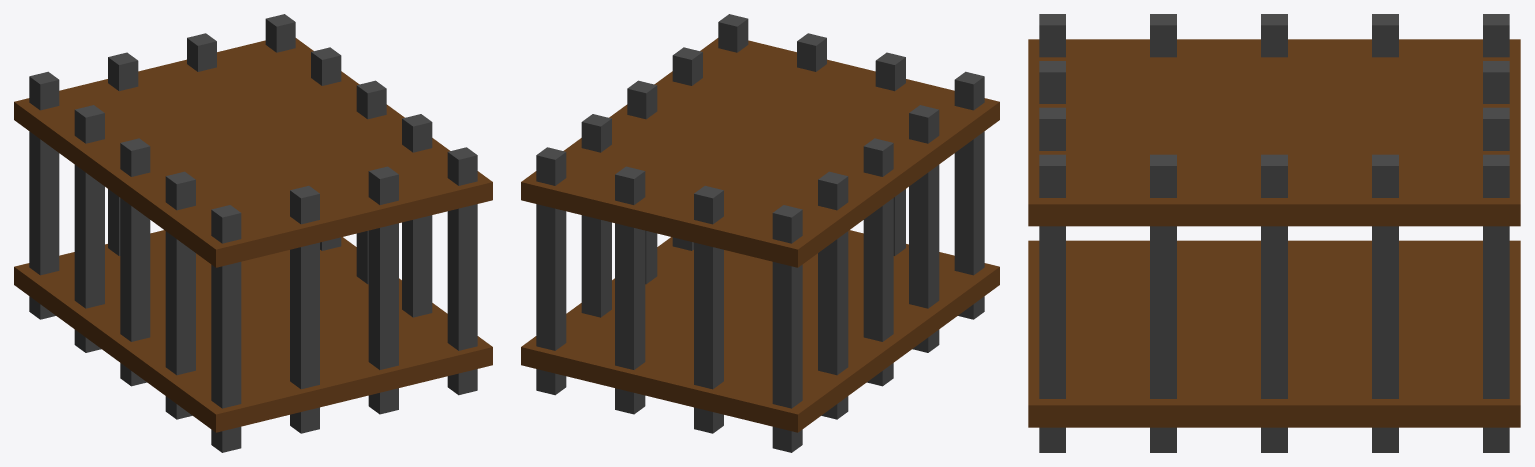
Rendered from cage_1.fbx.
The picture shows the model from 3 angles, left to right: view 1: azimuth 30°, elevation 25°; view 2: azimuth 150°, elevation 25°; view 3: azimuth 270°, elevation 25°; orthographic projection. The views are drawn at different scales.
Visible parts, largest first — view 1: cage_2; view 2: cage_2; view 3: cage_2.
Part boxes in pixels (x1,y1,x2,y2): cage_2: [14, 14, 492, 452]; cage_2: [521, 14, 999, 452]; cage_2: [1028, 14, 1520, 452].
Size of the model in its own units: 680 by 553 by 860.
